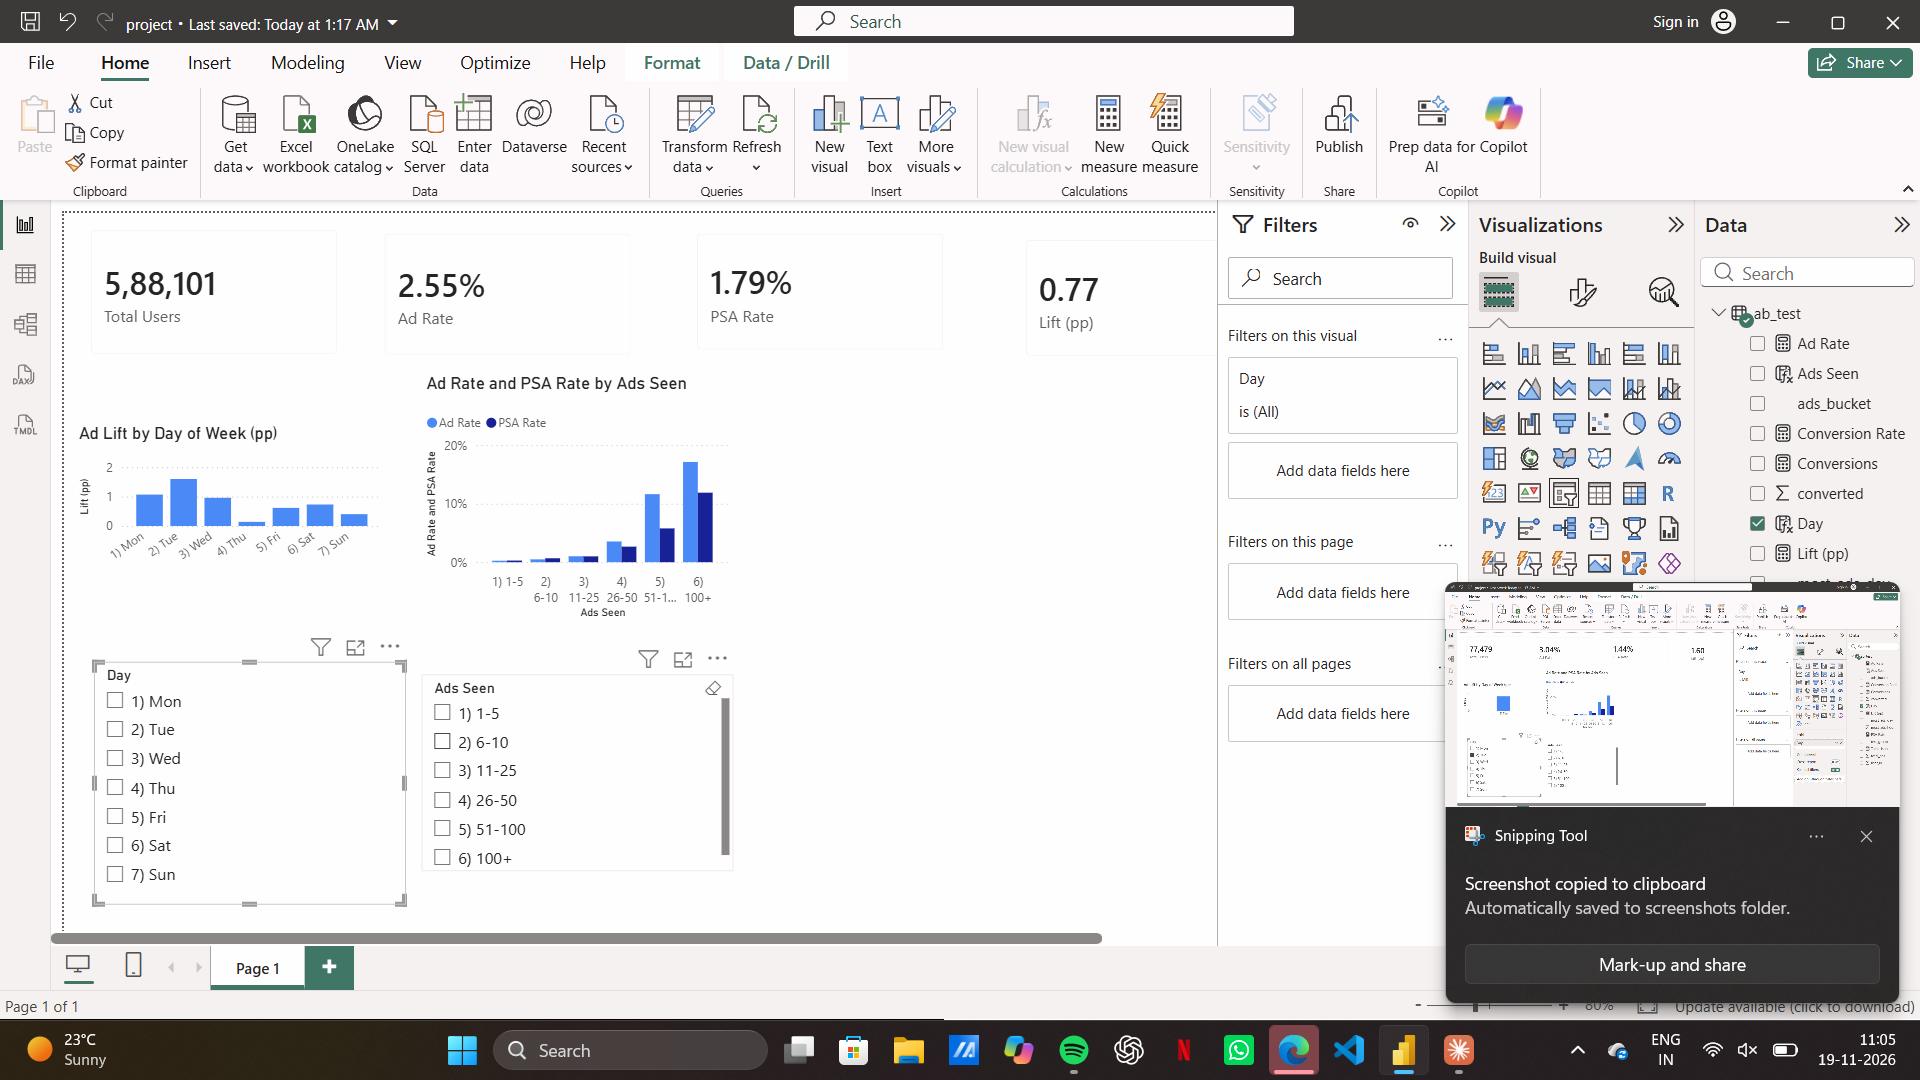

What the dashboard file says about the page in this screenshot:
{"tool":"powerbi","page":{"name":"Page 1","canvas":[1280,720],"ordinal":0},"visuals":[{"type":"cardVisual","fields":{"Data":["ab_test.Total Users"]},"box":[10,0,280,158.8],"z":0},{"type":"cardVisual","fields":{"Data":["ab_test.Ad Rate"]},"box":[303.3,4.1,280,155],"z":1000},{"type":"cardVisual","fields":{"Data":["ab_test.PSA Rate"]},"box":[616.1,4.1,280,150],"z":2000},{"type":"cardVisual","fields":{"Data":["ab_test.Lift (pp)"]},"box":[945.5,9.6,280,150],"z":3000},{"type":"clusteredColumnChart","title":"Ad Rate and PSA Rate by Ads Seen","fields":{"Category":["ab_test.Ads Seen"],"Y":["ab_test.Ad Rate","ab_test.PSA Rate"]},"box":[357.5,160,312.5,250],"z":4000},{"type":"clusteredColumnChart","title":"Ad Lift by Day of Week (pp)","fields":{"Category":["ab_test.Day"],"Y":["ab_test.Lift (pp)"]},"box":[9.6,209.9,313,150],"z":5000},{"type":"slicer","fields":{"Values":["ab_test.Day"]},"box":[30,448.8,312.9,244.3],"z":5001},{"type":"slicer","fields":{"Values":["ab_test.Ads Seen"]},"box":[357.5,461.2,312.9,197.6],"z":5002}]}

Visuals, with their boxes on the page's 1280x720 design canvas (x1, y1, x2, y2). These are canvas units, not pixel positions in the 1920x1080 screenshot, which may show the page scaled, cropped or inside an application window:
cardVisual - ab_test.Total Users: select_region(10, 0, 290, 159)
cardVisual - ab_test.Ad Rate: select_region(303, 4, 583, 159)
cardVisual - ab_test.PSA Rate: select_region(616, 4, 896, 154)
cardVisual - ab_test.Lift (pp): select_region(946, 10, 1226, 160)
"Ad Rate and PSA Rate by Ads Seen" clusteredColumnChart: select_region(358, 160, 670, 410)
"Ad Lift by Day of Week (pp)" clusteredColumnChart: select_region(10, 210, 323, 360)
slicer - ab_test.Day: select_region(30, 449, 343, 693)
slicer - ab_test.Ads Seen: select_region(358, 461, 670, 659)
